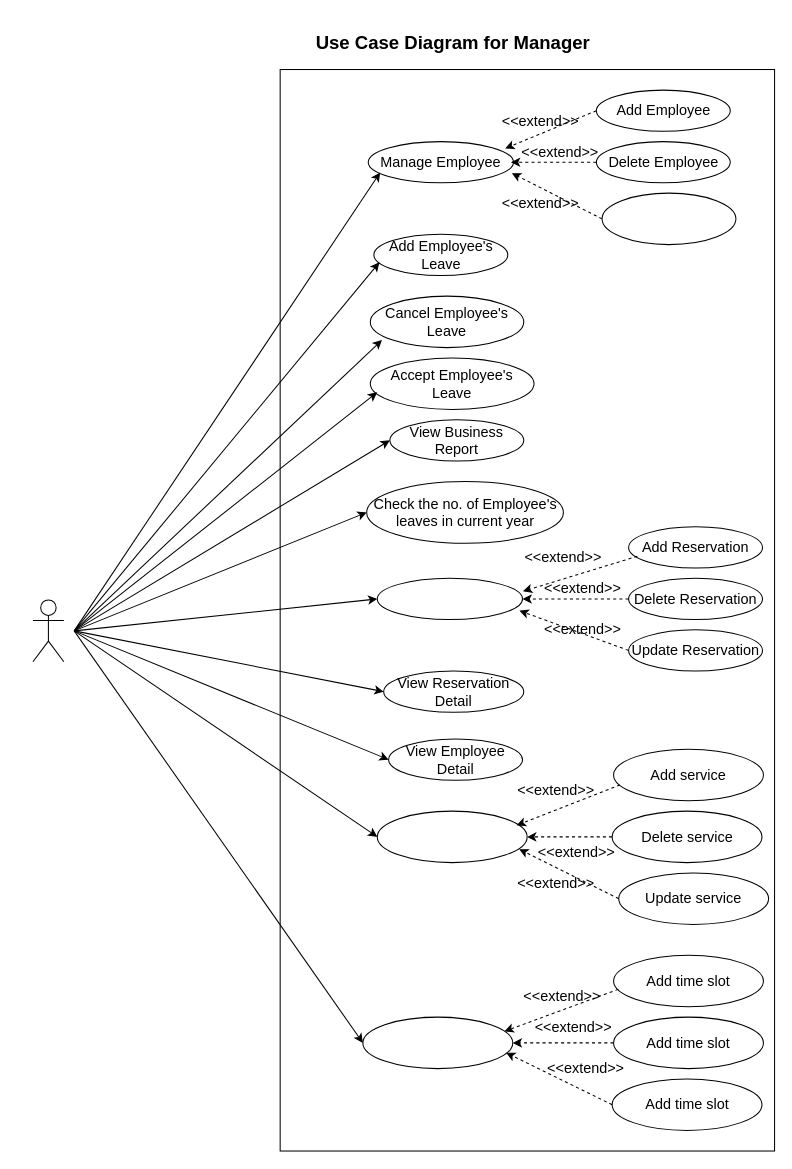
Some shapes in this 792 by 1169 pixel diagram are drawn without their labels. Here are the shapes that lost their labels. From the top down, the box of each, then its label:
(601, 192, 736, 245): Update Employee
(376, 577, 523, 620): Manage Reservation
(32, 599, 64, 662): Manager
(376, 810, 527, 863): Manage service
(362, 1016, 513, 1069): Manage time slot
